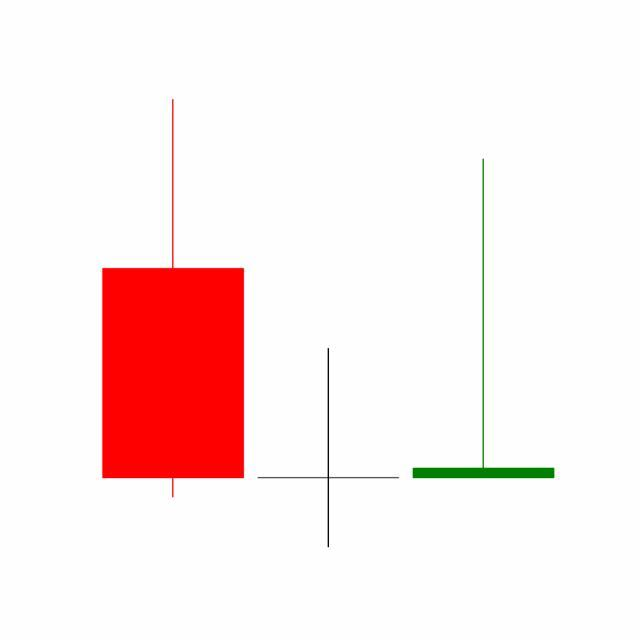Gravestone Doji: (406, 156, 562, 482)
